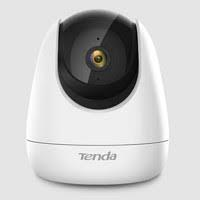maru: (25, 10, 170, 142)
